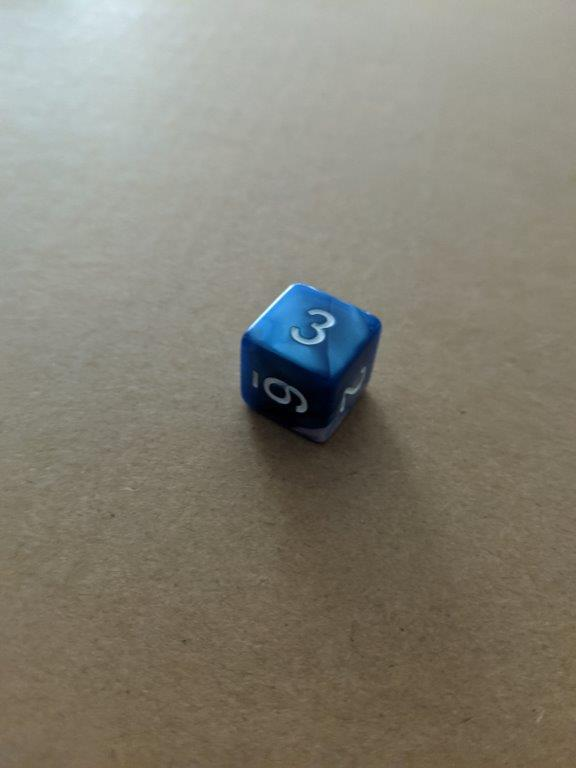d6-3: (238, 282, 381, 444)
